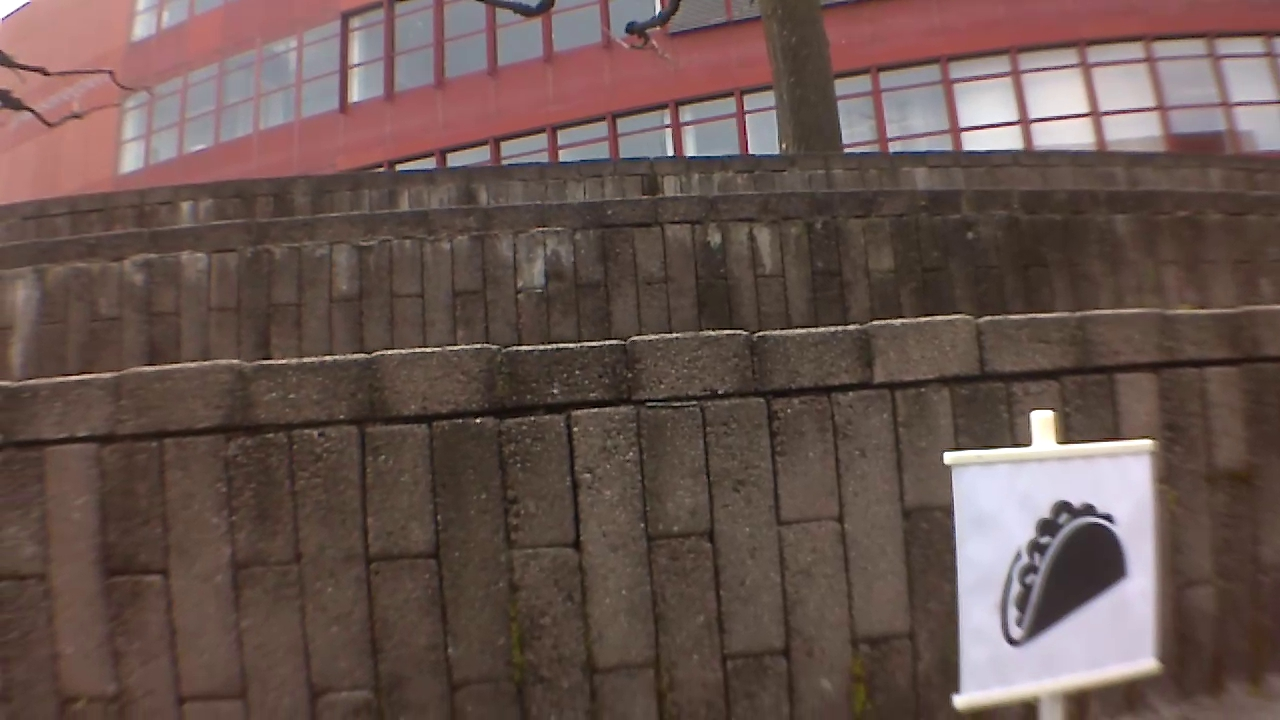taco: (990, 491, 1134, 657)
